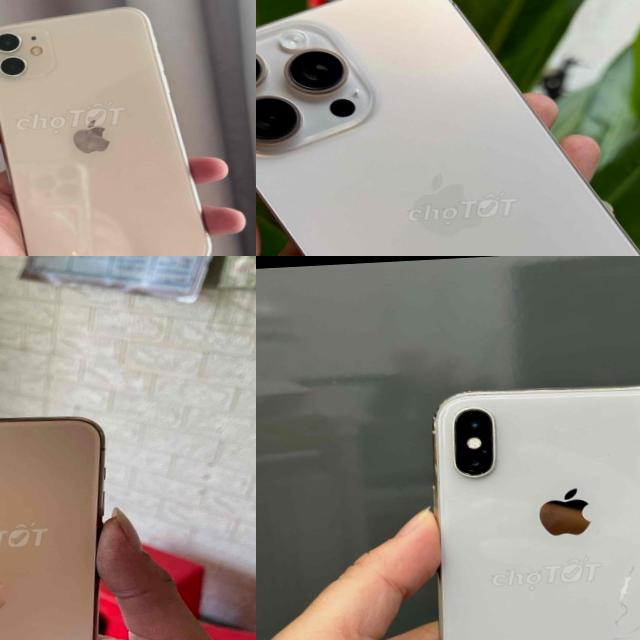gen_11: (0, 0, 220, 256), (0, 393, 137, 640)
gen_16: (256, 0, 640, 256)
gen_x_xs: (435, 386, 640, 640)
scratch: (602, 559, 640, 640), (529, 613, 627, 640), (460, 465, 492, 484)
